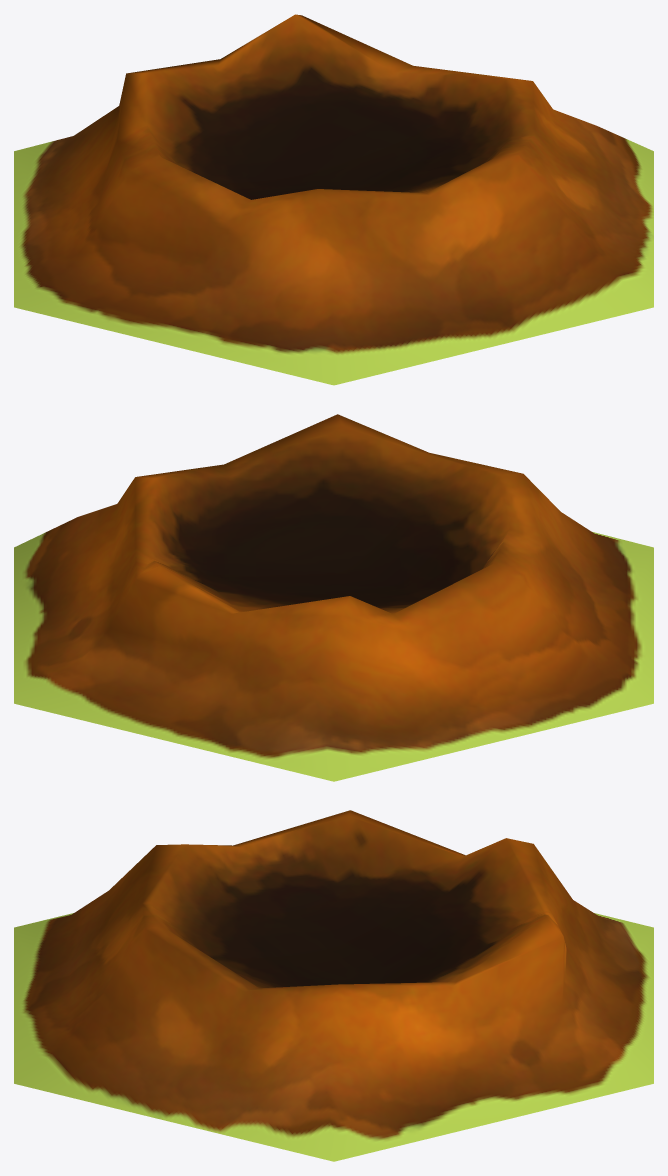
The model's file is dirtHole_mdl.fbx.
The picture shows the model from 3 angles, top to bottom: view 1: azimuth 30°, elevation 25°; view 2: azimuth 150°, elevation 25°; view 3: azimuth 270°, elevation 25°; orthographic projection.
Parts seen in each view (by area): view 1: dirtHole_GEO; view 2: dirtHole_GEO; view 3: dirtHole_GEO.
Part boxes in pixels (x1=…): dirtHole_GEO: x1=14, y1=14, x2=653, y2=385; dirtHole_GEO: x1=14, y1=414, x2=653, y2=781; dirtHole_GEO: x1=14, y1=810, x2=653, y2=1161.
Bounding box in the file's own units: 56.13 × 10.1 × 48.61.
1 material, 1 textured.
